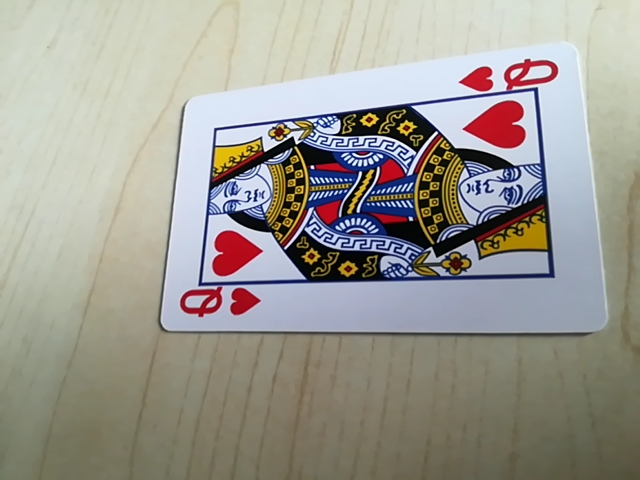hx q: (459, 55, 562, 98), (177, 282, 262, 328)
